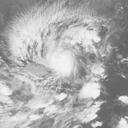cyclone: (20, 13, 100, 101)
